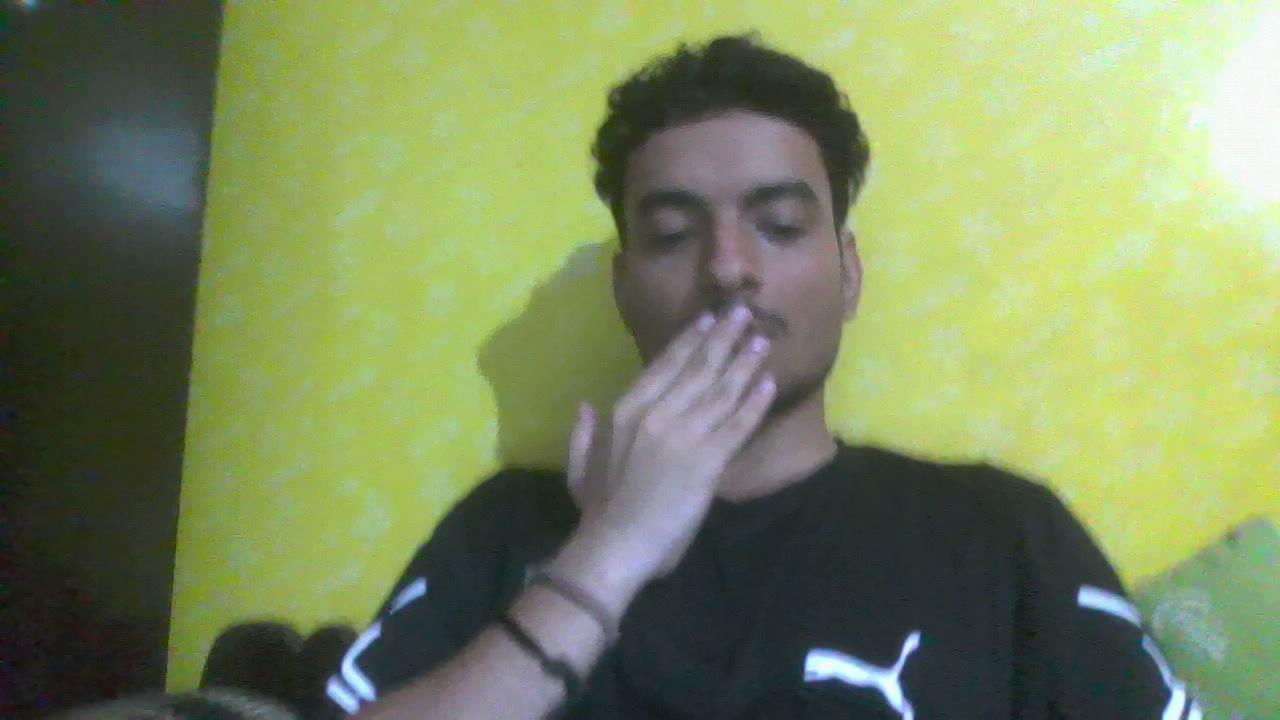Thank You: (570, 250, 814, 588)
